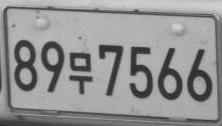5: (129, 46, 154, 99)
6: (186, 48, 213, 103), (157, 47, 183, 100)
7: (98, 44, 124, 96)
8: (13, 39, 38, 91)
9: (40, 40, 65, 93)
무: (68, 52, 93, 94)
